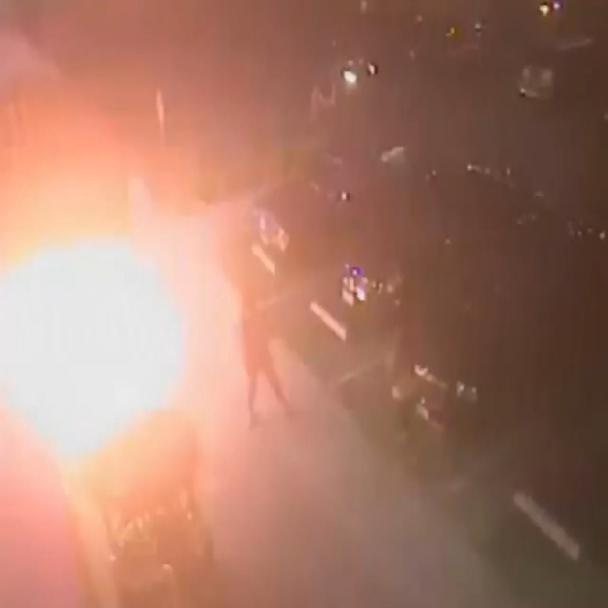Fire: (0, 129, 269, 560)
